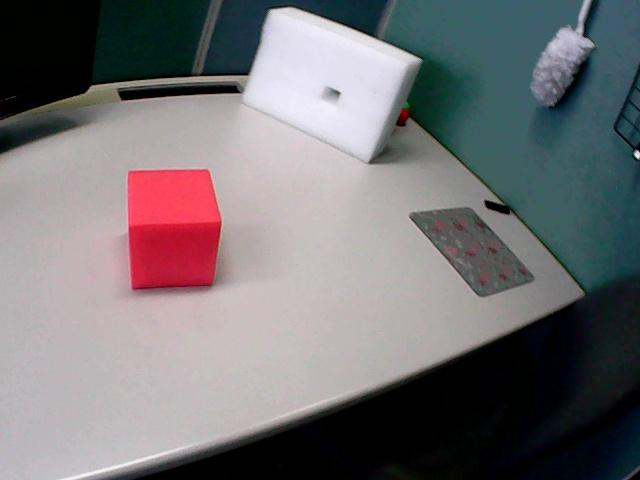red_block: (128, 170, 221, 289)
